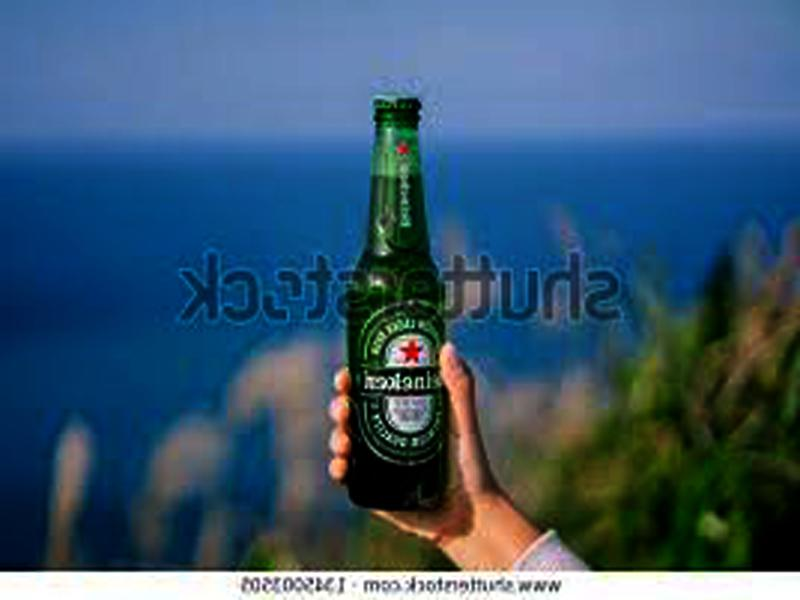Beer: (348, 96, 450, 504)
